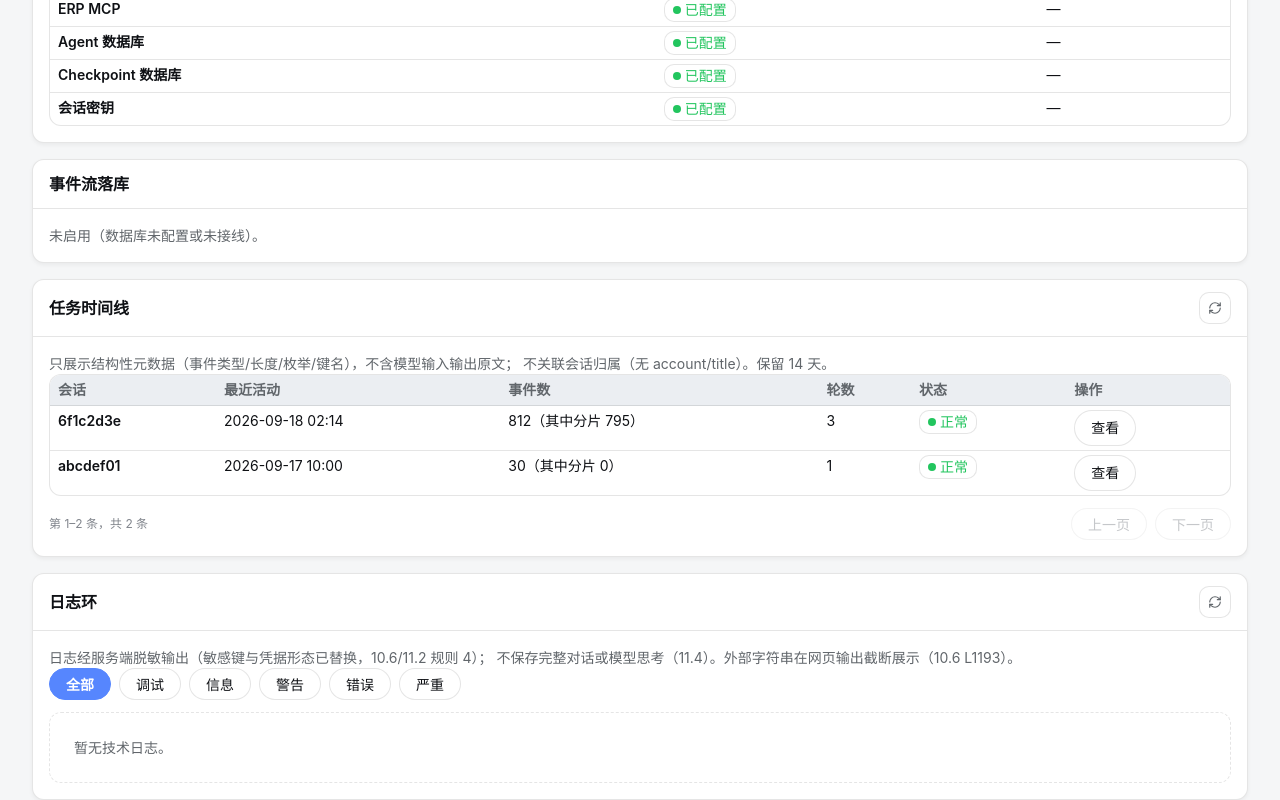
it: StreamTimelinePanel 任务时间线 › 27 展开折叠行出现原始 event_id，返回后展开态复位
The width and height of the screenshot is (1280, 800).
(page scrolled)
Click the button "查看" in the row of "6f1c2d3e".
click(1105, 428)  # box left=1074, top=410, right=1136, bottom=446
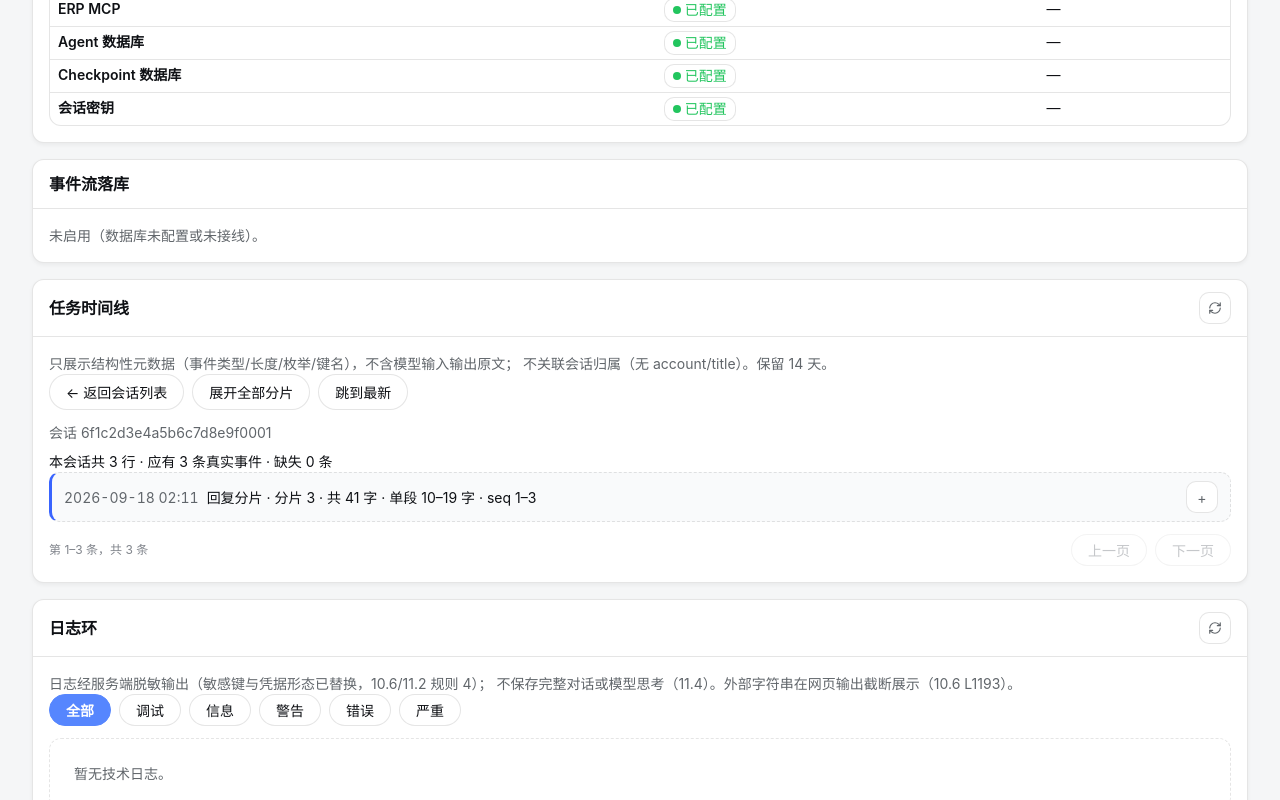
Expected: the text "s-a-e0001" is not shown
Result: the button "← 返回会话列表" is shown at left=49, top=374, right=184, bottom=410
Result: the text "回复分片 · 分片 3 · 共 41 字 · 单段 10–19 字 · seq 1–3" is shown at left=207, top=488, right=536, bottom=506
Click the button named "展开分片".
click(1202, 497)  # box left=1186, top=481, right=1218, bottom=513
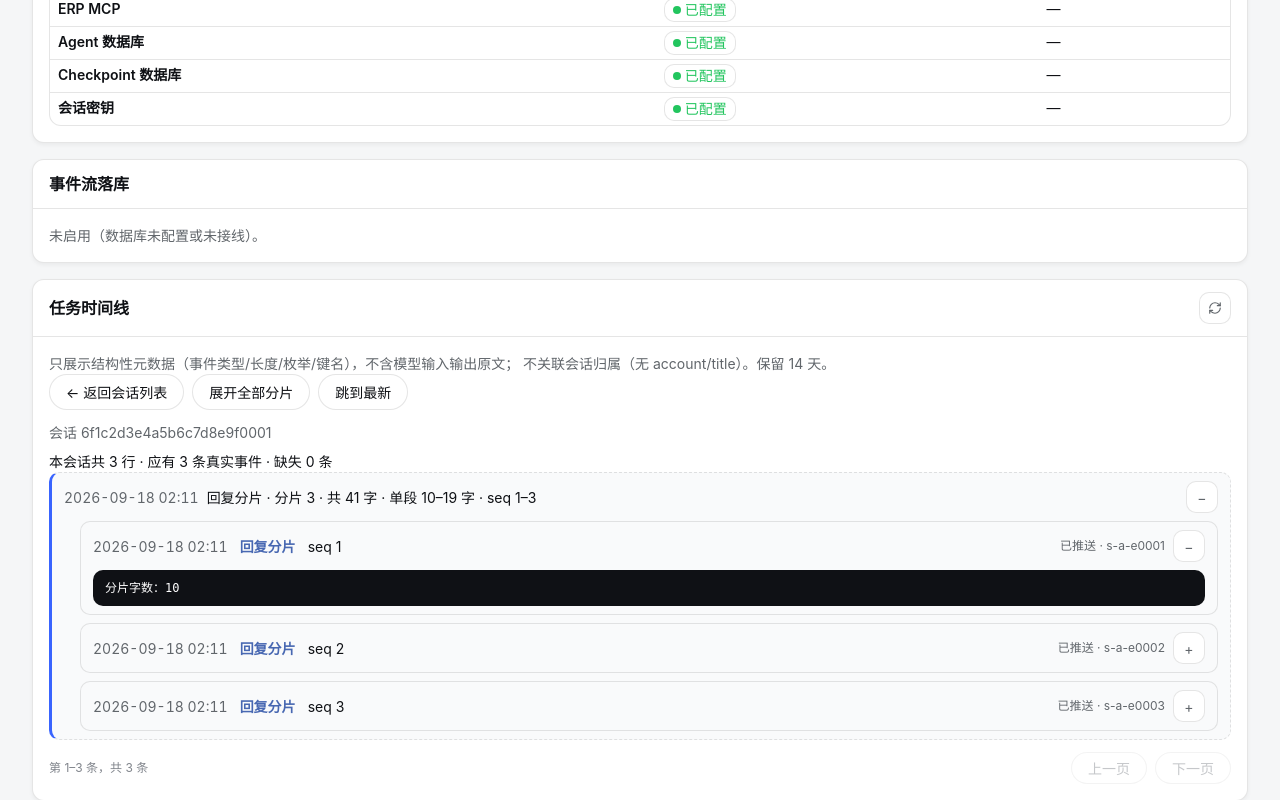
Result: the text "s-a-e0001" is shown at left=1060, top=538, right=1165, bottom=553
Click the button "← 返回会话列表".
click(117, 392)  # box left=49, top=374, right=184, bottom=410
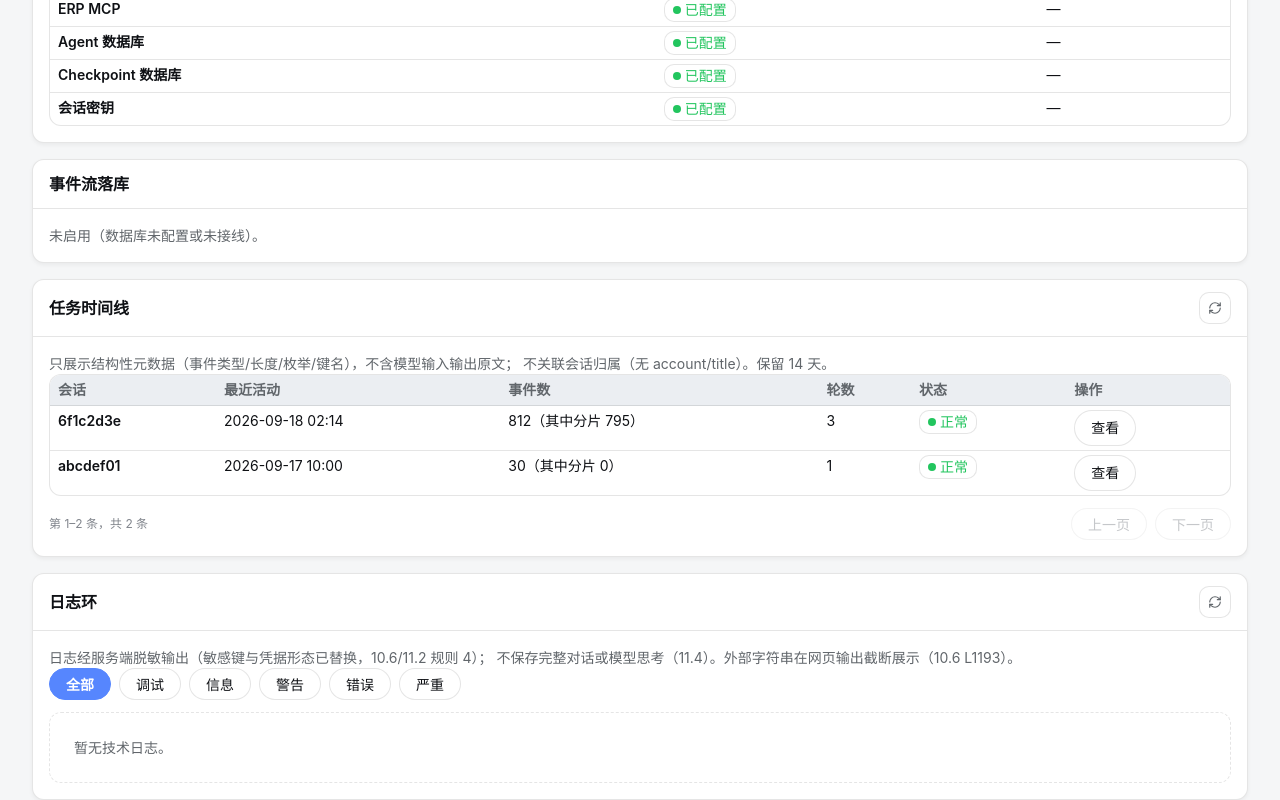
Click the button "查看" in the row of "6f1c2d3e".
click(1105, 428)  # box left=1074, top=410, right=1136, bottom=446
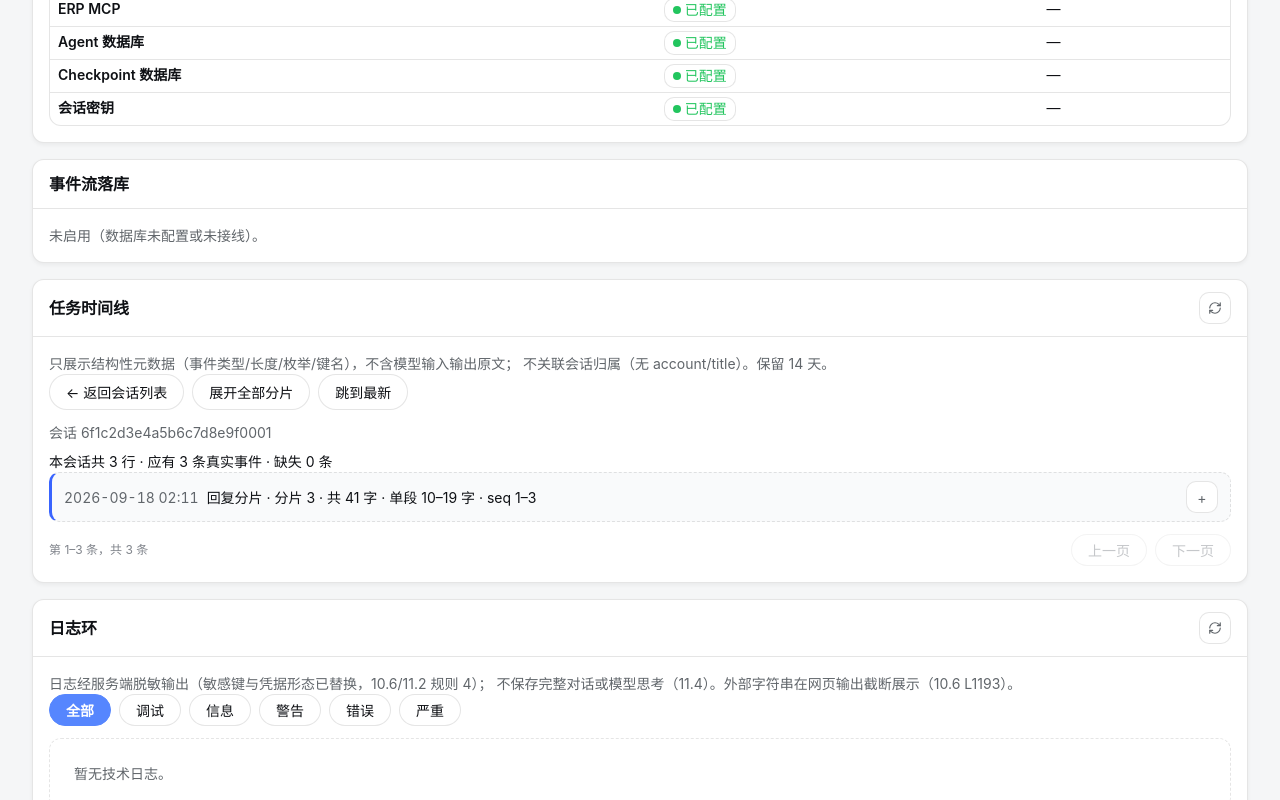
Expected: the text "s-a-e0001" is not shown
Result: the button "← 返回会话列表" is shown at left=49, top=374, right=184, bottom=410
